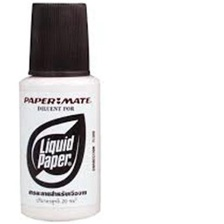correction_fluid: (15, 0, 102, 224)
